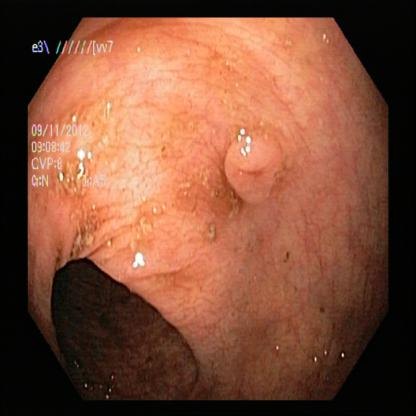Labels: (23, 109, 132, 202), (26, 21, 132, 67)
Polyps: (204, 117, 297, 216)
